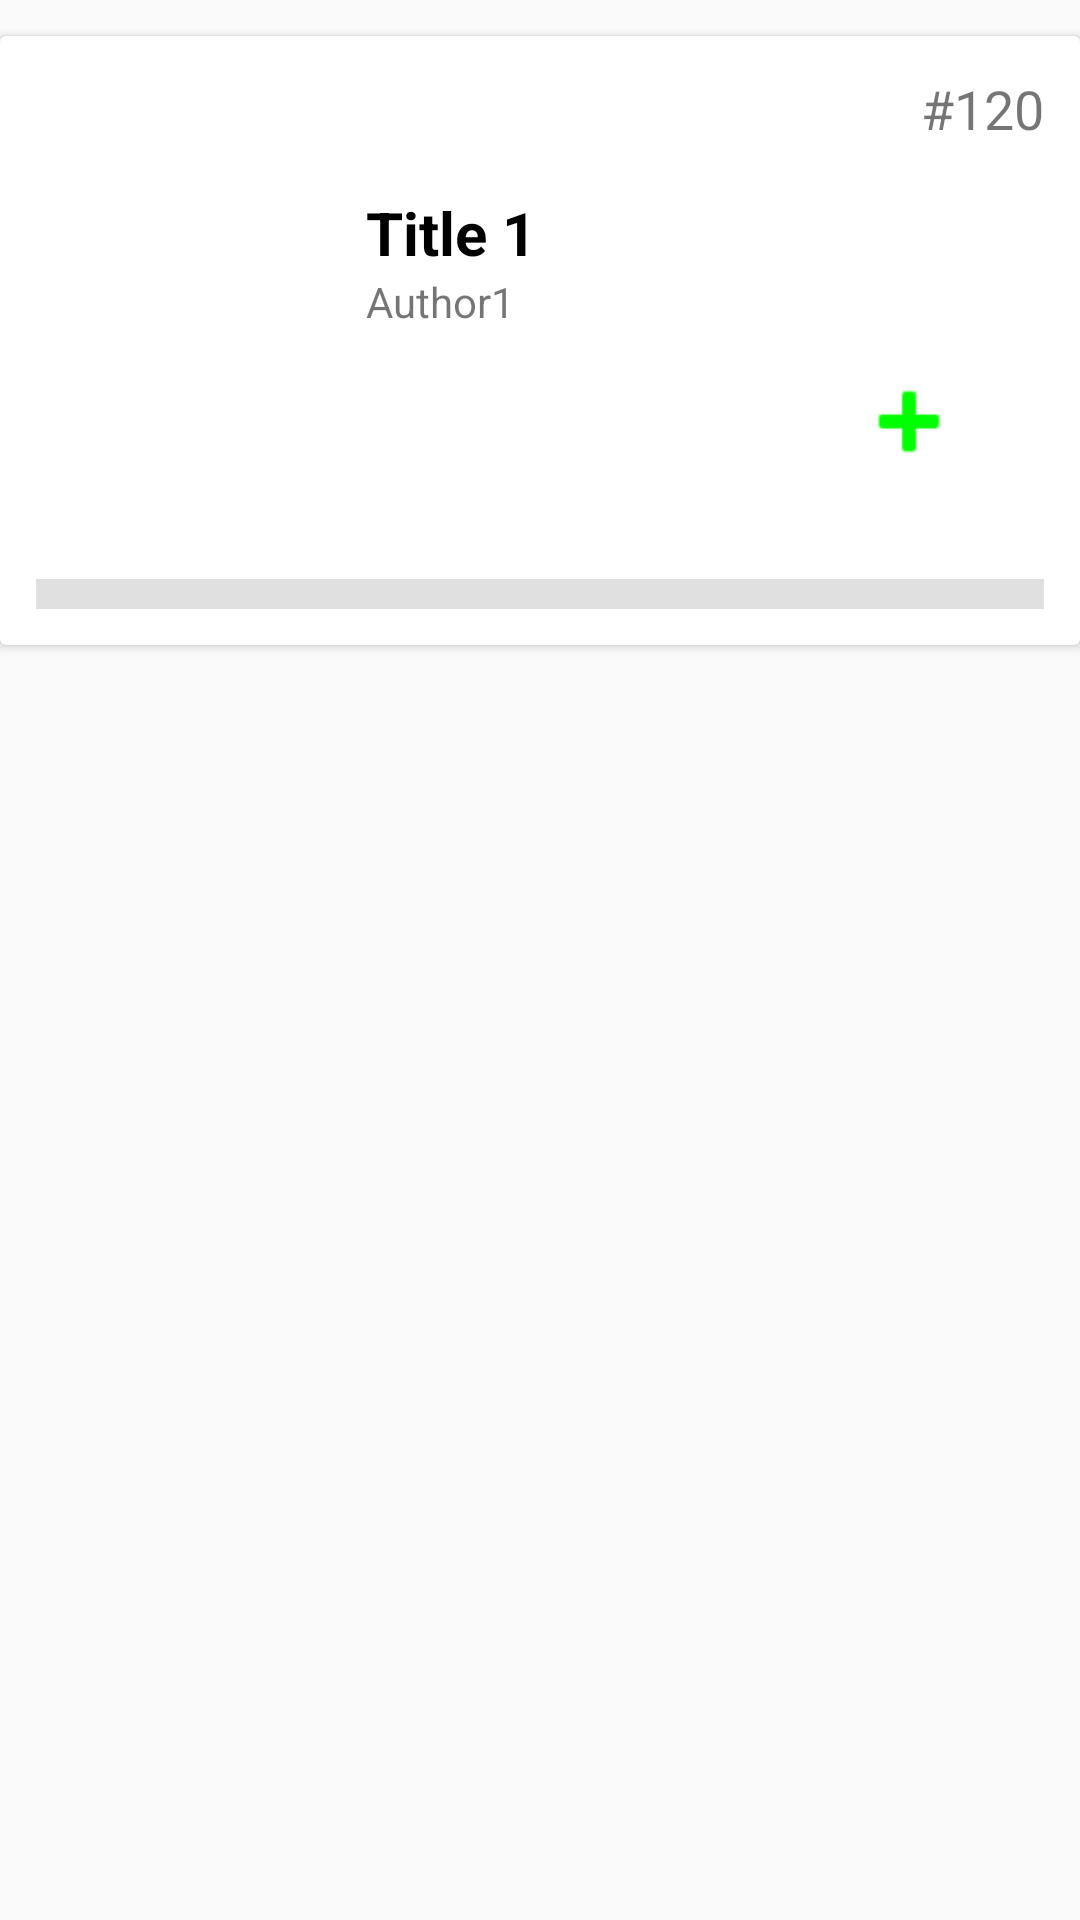

Icons on this 1080 × 1920 Android screen, each with the point to tap as (x,y):
Agregar libro a organización: (909,421)
